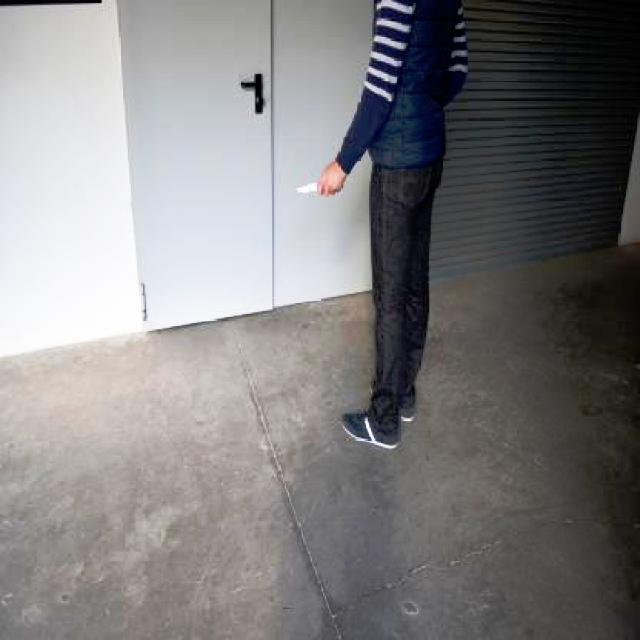Knife: (289, 171, 335, 203)
